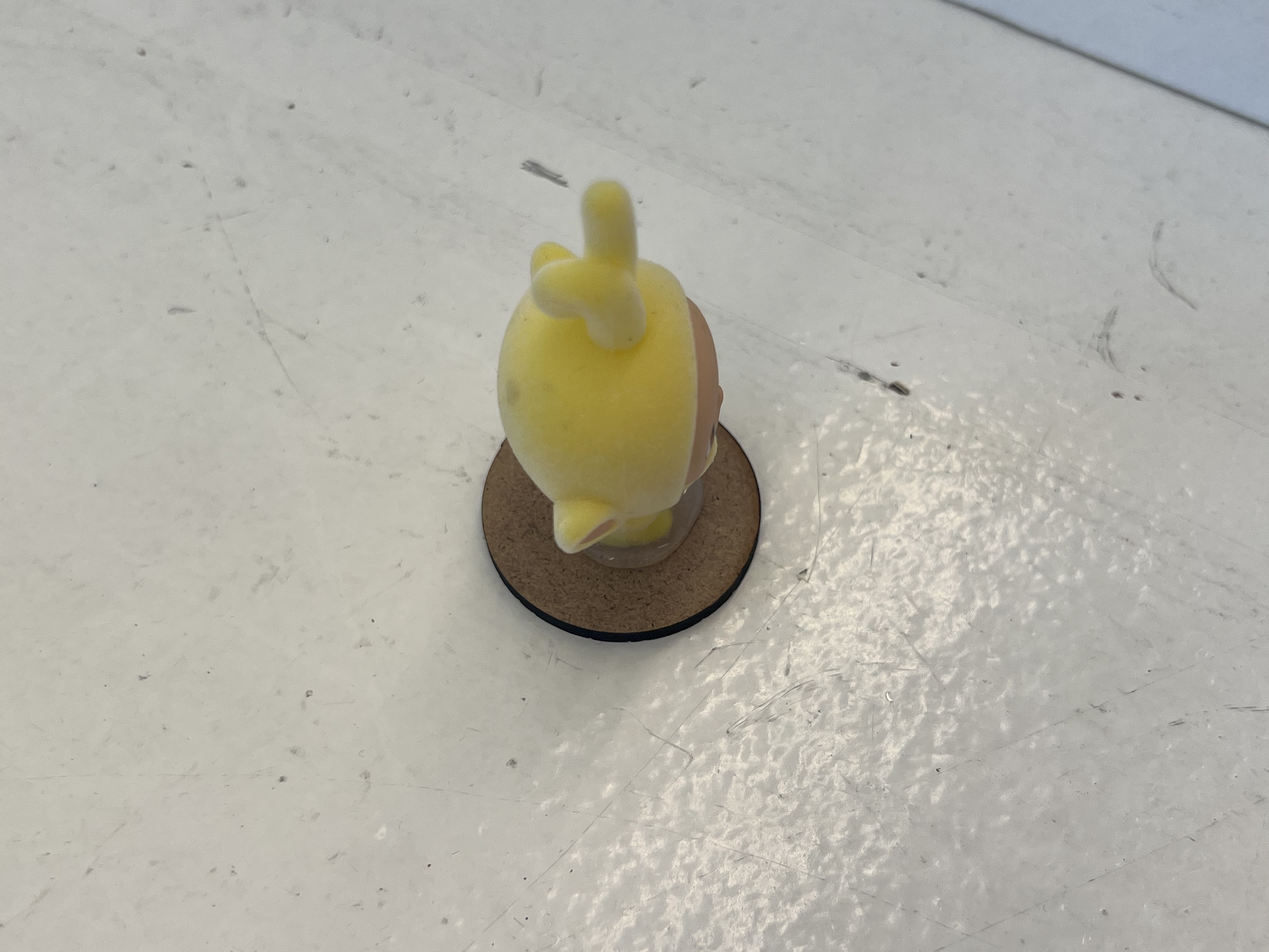teletubby: (498, 180, 722, 553)
